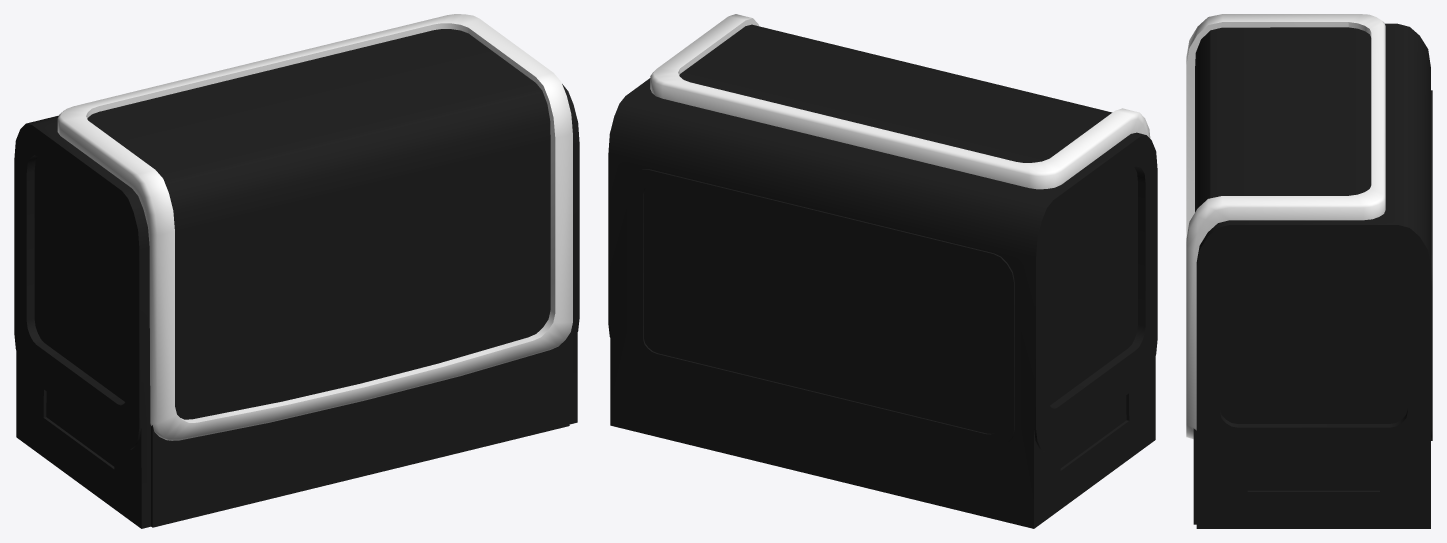
File: Printer.FBX
3 renders of one model, left to right at view 1: azimuth 30°, elevation 25°; view 2: azimuth 150°, elevation 25°; view 3: azimuth 270°, elevation 25°, orthographic. The views are drawn at different scales.
Parts seen in each view (by area): view 1: Outer Casing; view 2: Outer Casing; view 3: Outer Casing.
Part boxes in pixels (x1,y1,x2,y2): Outer Casing: (14,14,579,528); Outer Casing: (608,14,1157,528); Outer Casing: (1186,14,1432,528).
Size of the model in its own units: 138 by 103 by 71.72.
Materials: 1 (1 with a texture image).
